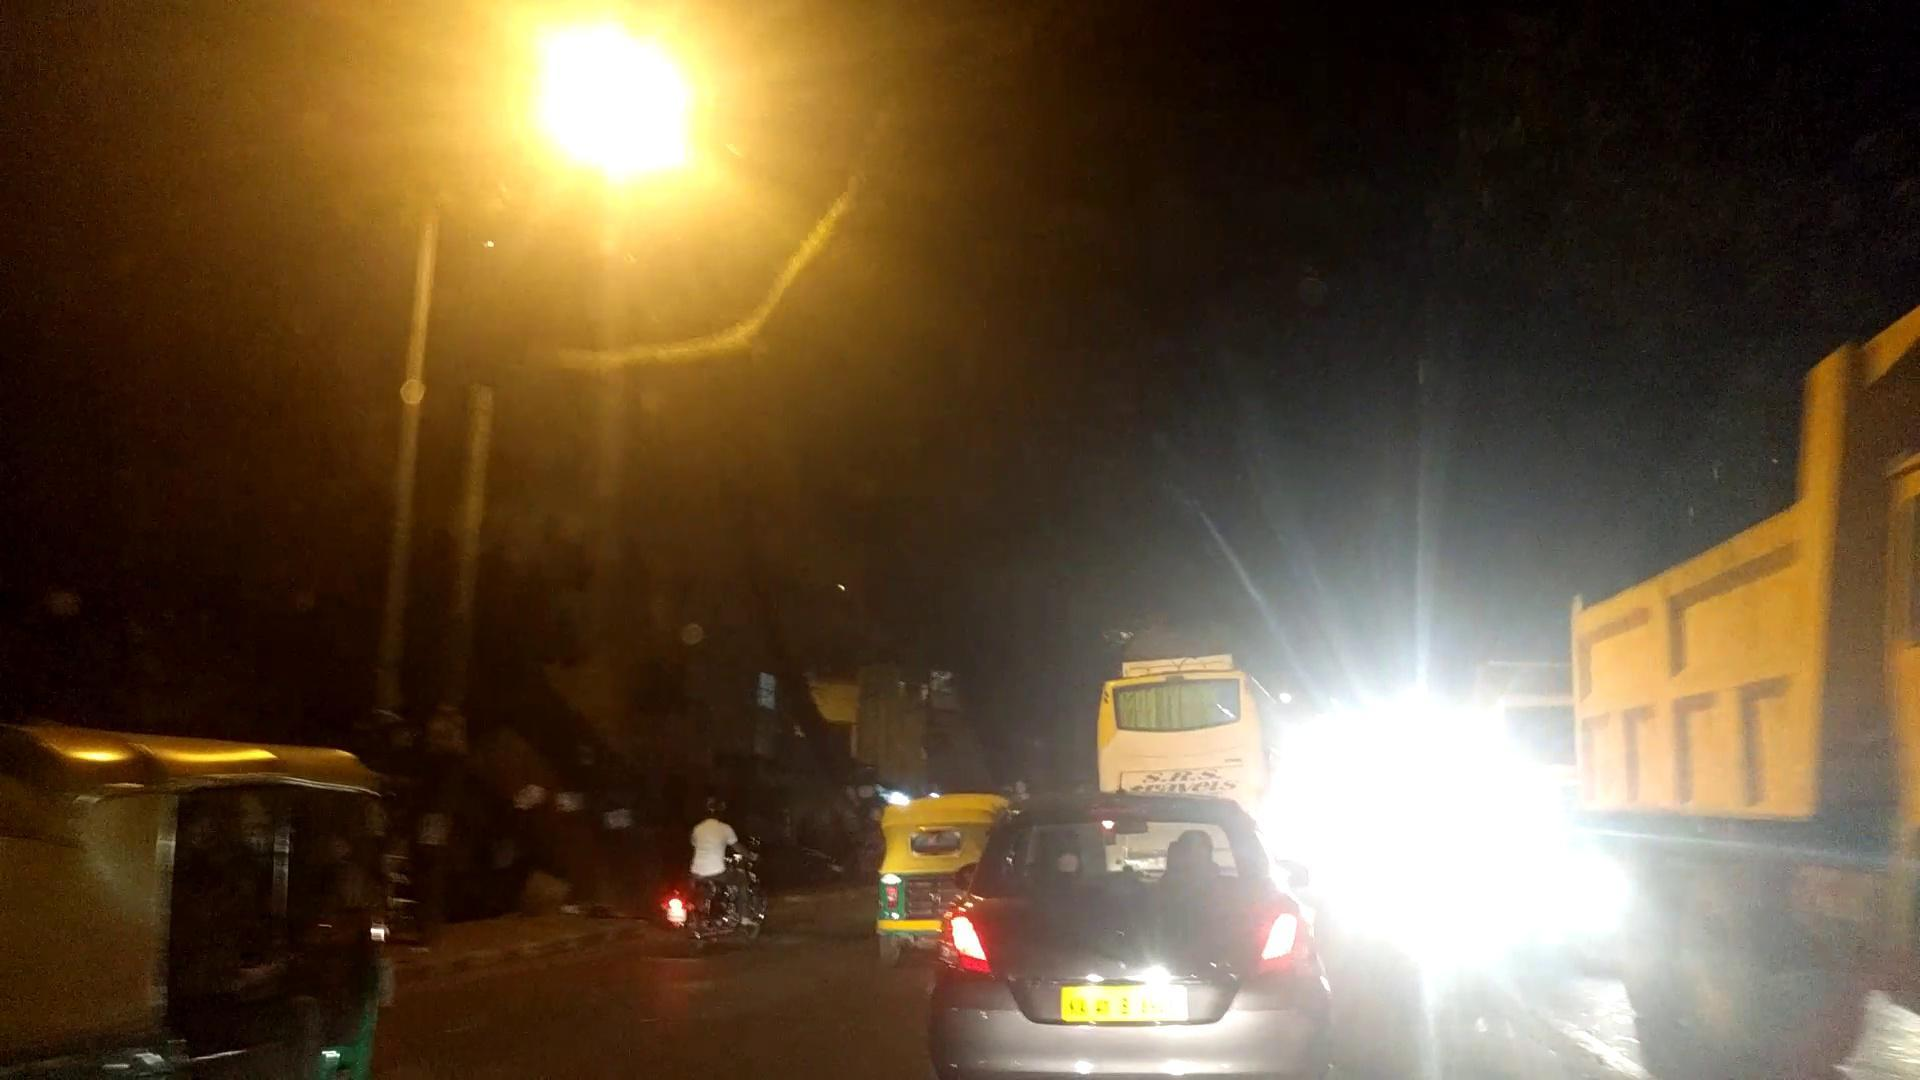on: (1080, 452, 1655, 1004), (340, 0, 943, 419)
